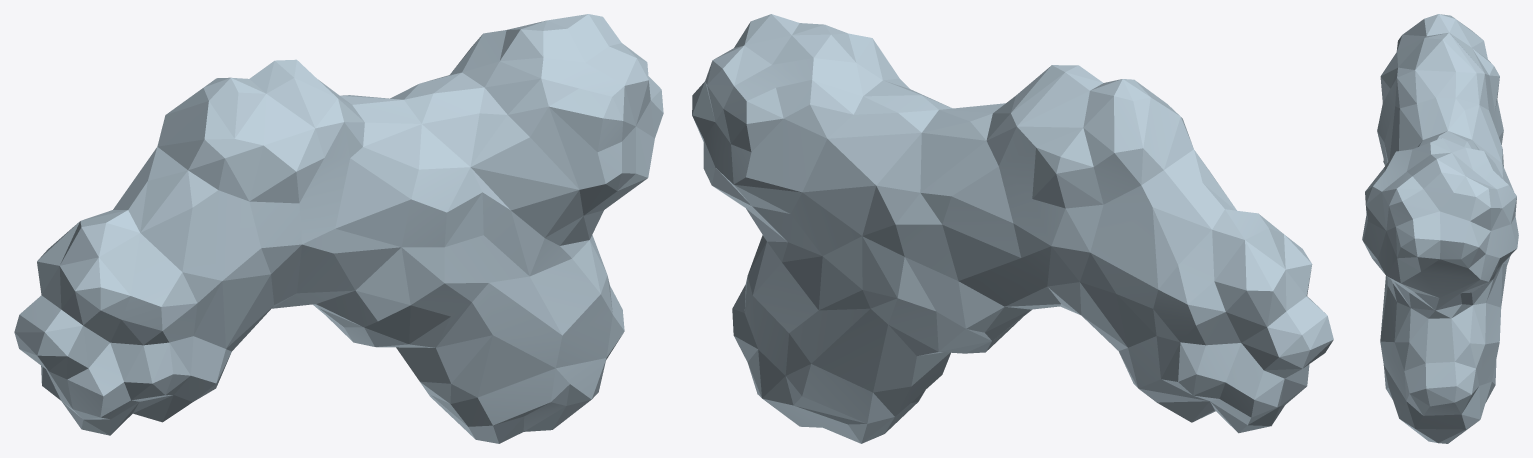
The model's file is stylize_cloud_9.fbx.
3 views of the same model, side by side, from view 1: azimuth 30°, elevation 25°; view 2: azimuth 150°, elevation 25°; view 3: azimuth 270°, elevation 25° (orthographic). The views are drawn at different scales.
Visible parts, largest first — view 1: cloud_89; view 2: cloud_89; view 3: cloud_89.
Boxes of the visible parts, bbox=[...] form: cloud_89: bbox=[14, 14, 663, 443]; cloud_89: bbox=[692, 14, 1333, 443]; cloud_89: bbox=[1362, 14, 1518, 443].
Bounding box in the file's own units: 602 × 394 × 178.
